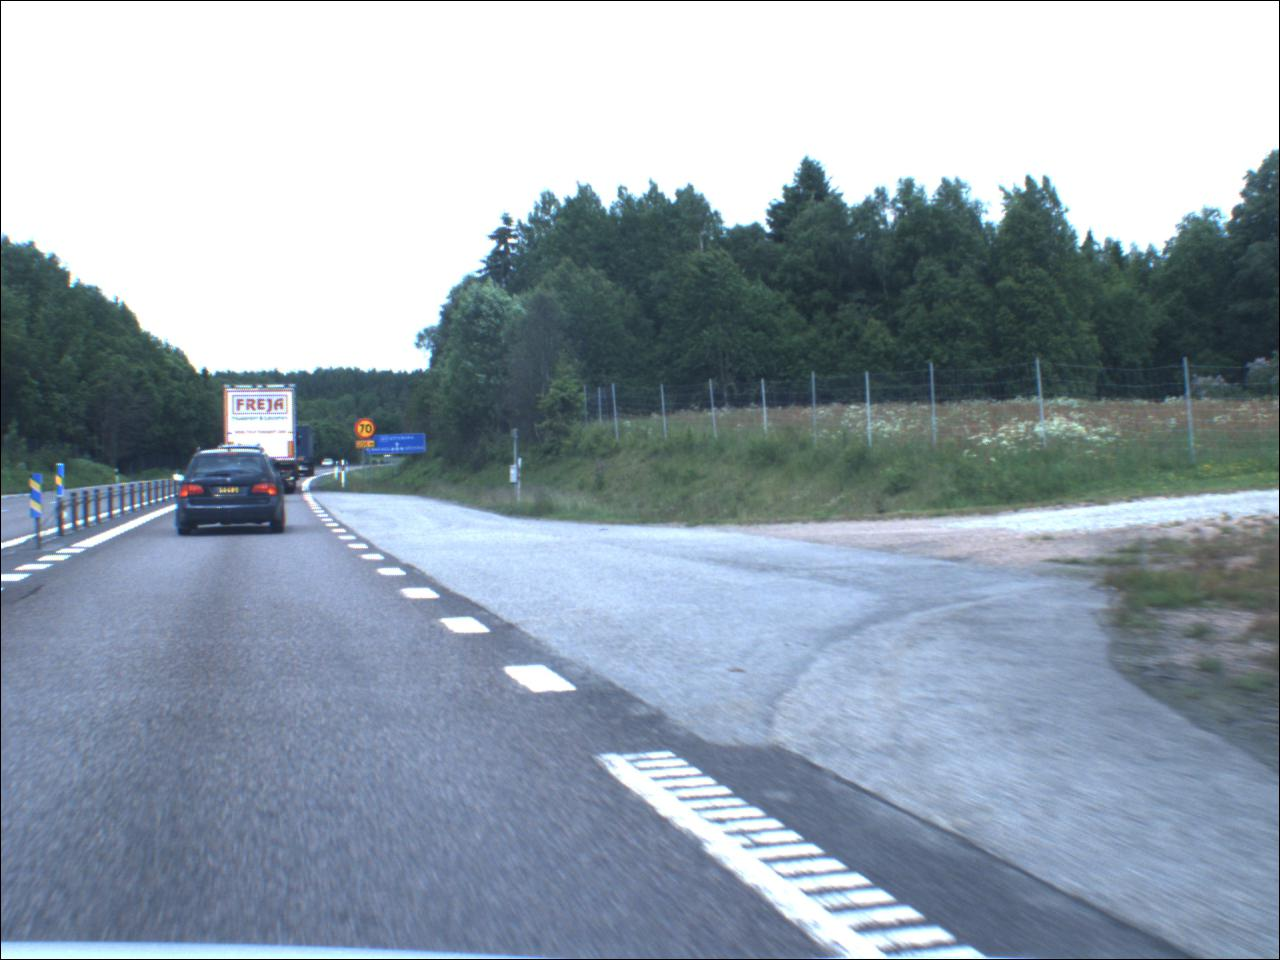70_SIGN: (357, 419, 379, 442)
